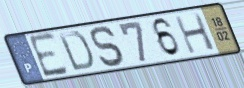6: (151, 17, 182, 59)
7: (116, 20, 149, 64)
D: (56, 30, 97, 73)
E: (26, 30, 72, 80)
H: (172, 11, 218, 56)
S: (89, 24, 128, 68)
